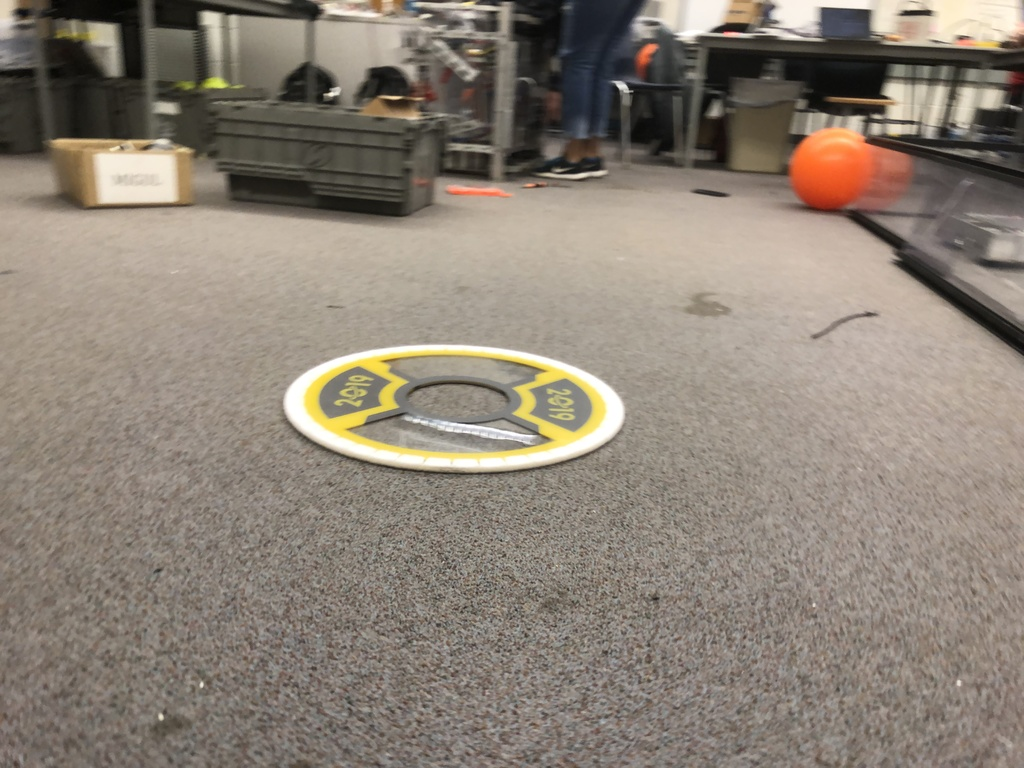hatch_panel: (277, 338, 650, 481)
